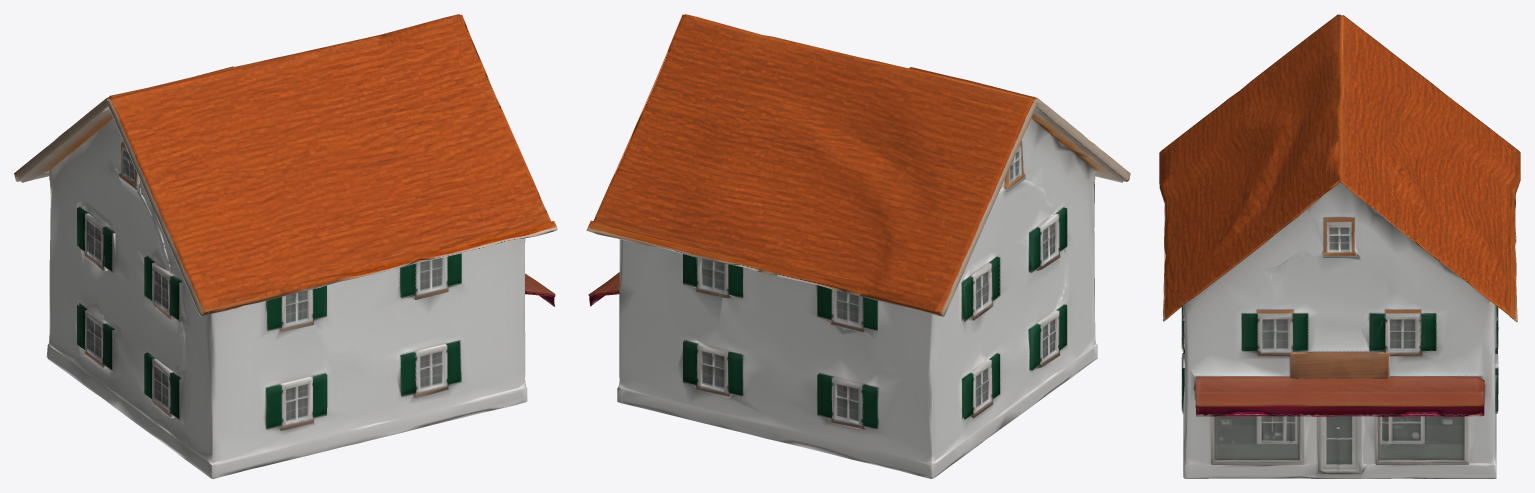
File: shop_tripo.glb
3 renders of one model, left to right at view 1: azimuth 30°, elevation 25°; view 2: azimuth 150°, elevation 25°; view 3: azimuth 270°, elevation 25°, orthographic. The views are drawn at different scales.
Parts seen in each view (by area): view 1: tripo_node_1d17115b-5fcc-4580-81a6-16064419d9c0; view 2: tripo_node_1d17115b-5fcc-4580-81a6-16064419d9c0; view 3: tripo_node_1d17115b-5fcc-4580-81a6-16064419d9c0.
Boxes of the visible parts, x1,y1,x2,y2 form: tripo_node_1d17115b-5fcc-4580-81a6-16064419d9c0: (14, 14, 557, 478); tripo_node_1d17115b-5fcc-4580-81a6-16064419d9c0: (586, 14, 1130, 478); tripo_node_1d17115b-5fcc-4580-81a6-16064419d9c0: (1159, 14, 1520, 478).
Size of the model in its own units: 0.9836 by 0.826 by 0.8707.
1 material, 1 textured.
